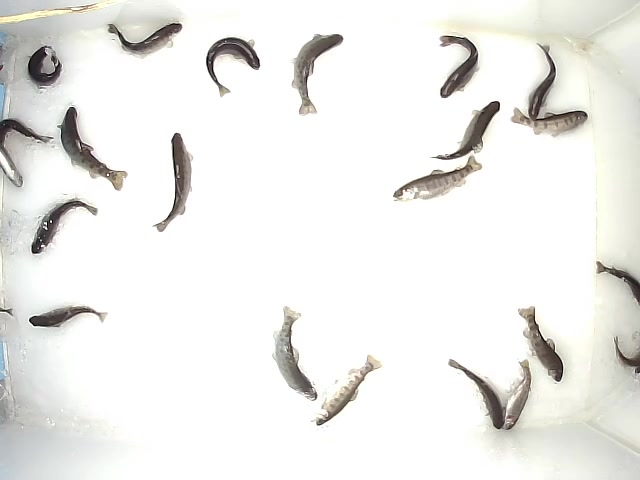fish: (55, 105, 129, 193), (310, 354, 384, 426), (268, 304, 318, 402), (289, 31, 344, 116), (392, 154, 483, 204), (152, 131, 195, 236), (428, 100, 502, 161), (448, 359, 505, 430), (30, 198, 99, 255), (516, 305, 564, 385), (205, 35, 262, 100), (437, 35, 481, 100), (106, 22, 184, 58), (509, 107, 588, 138), (527, 42, 557, 122), (501, 358, 532, 431), (28, 304, 109, 329), (24, 44, 64, 89)
